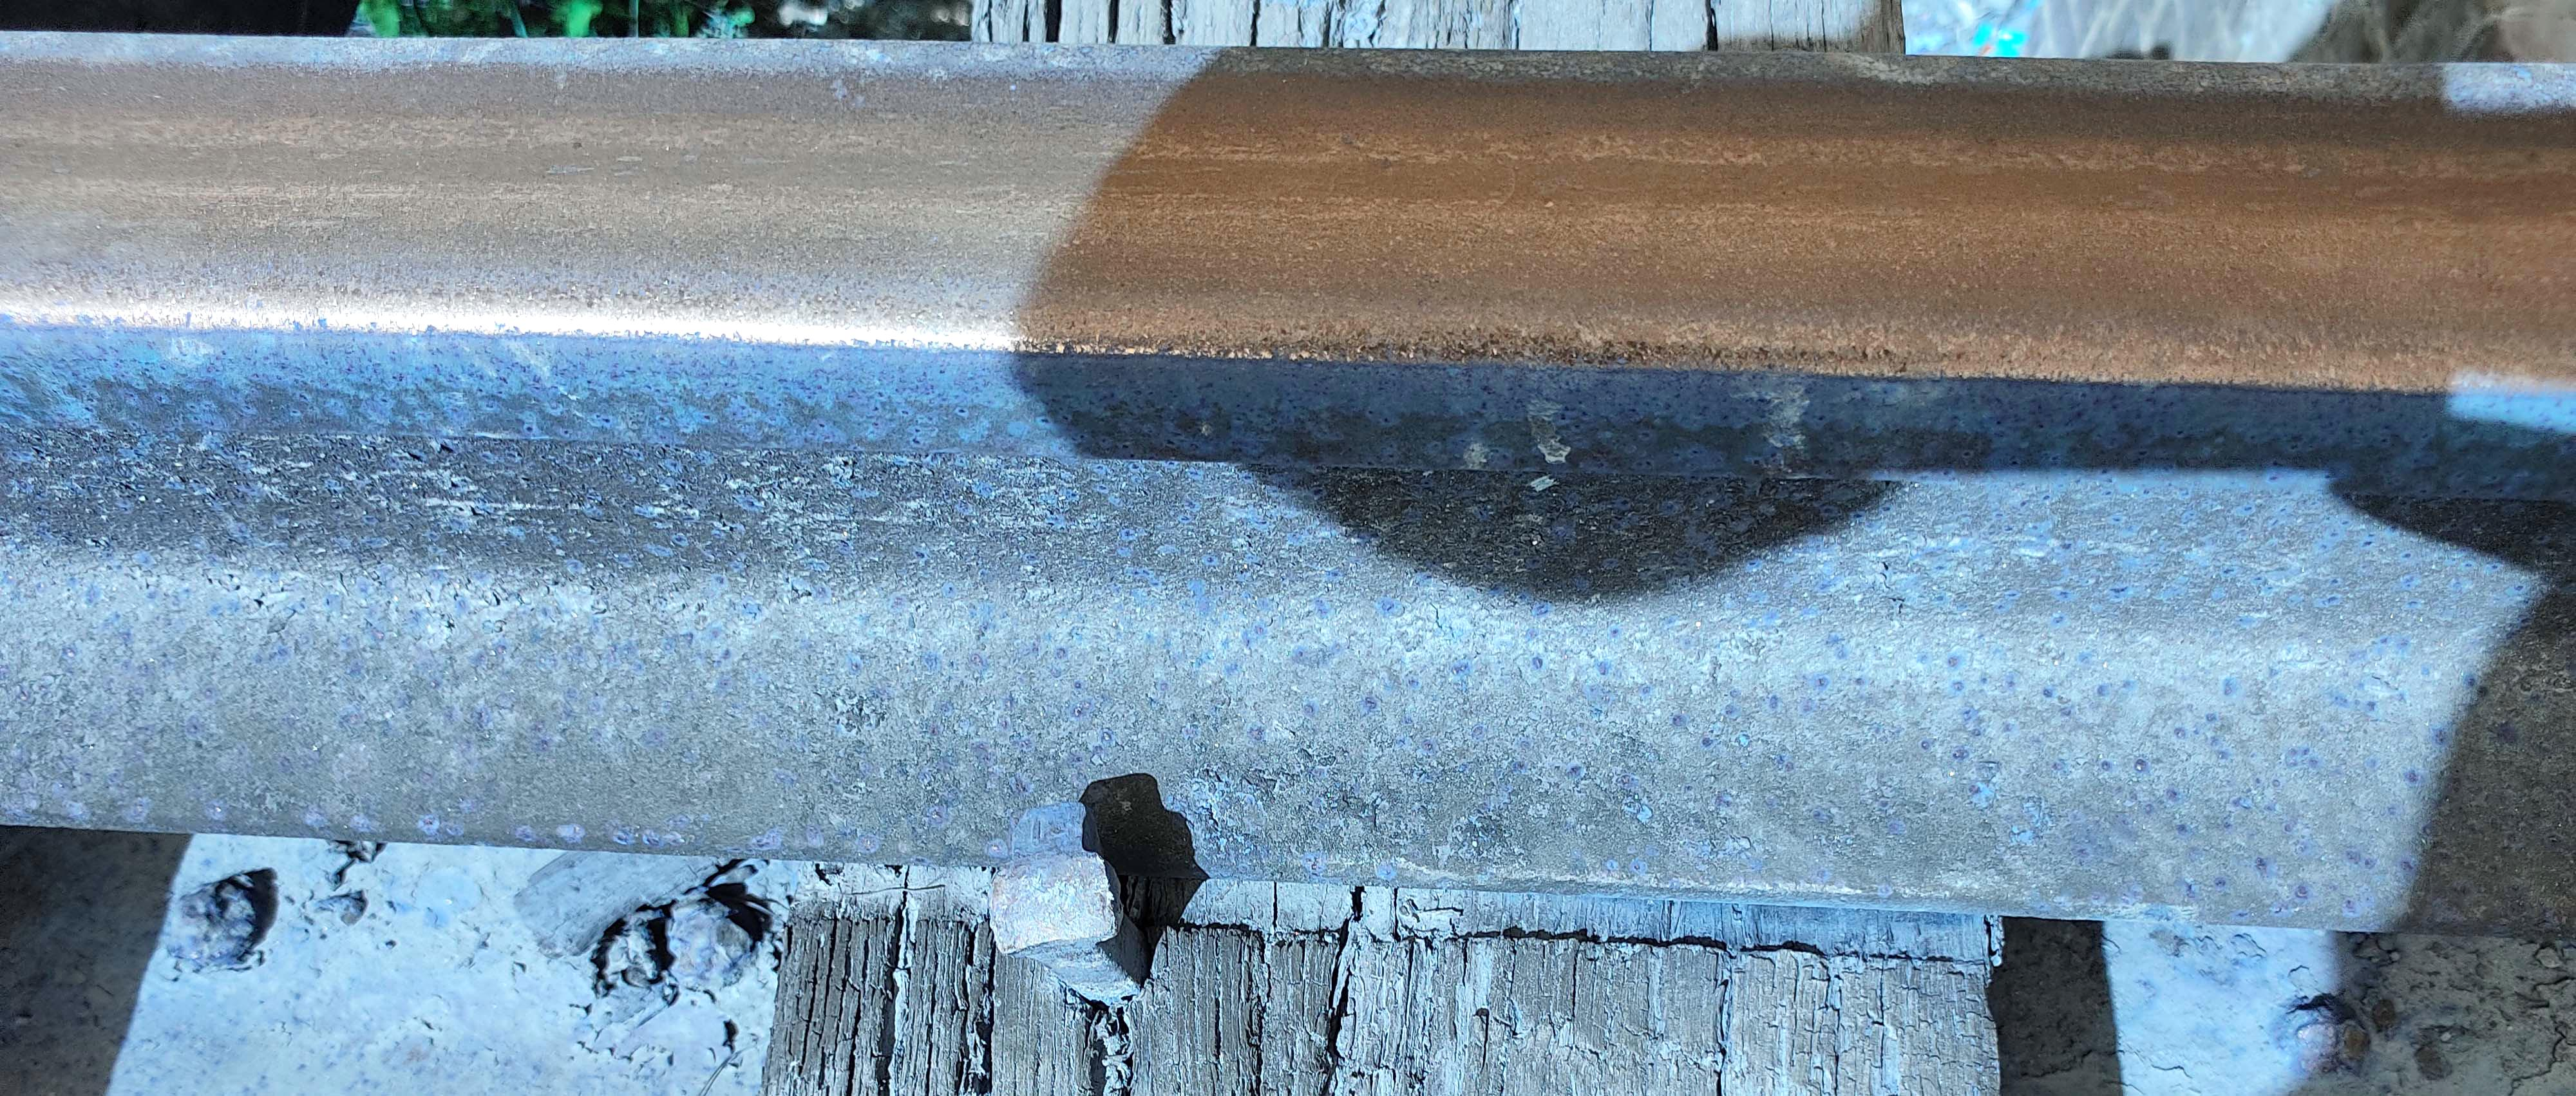error1: (909, 731, 1265, 991)
